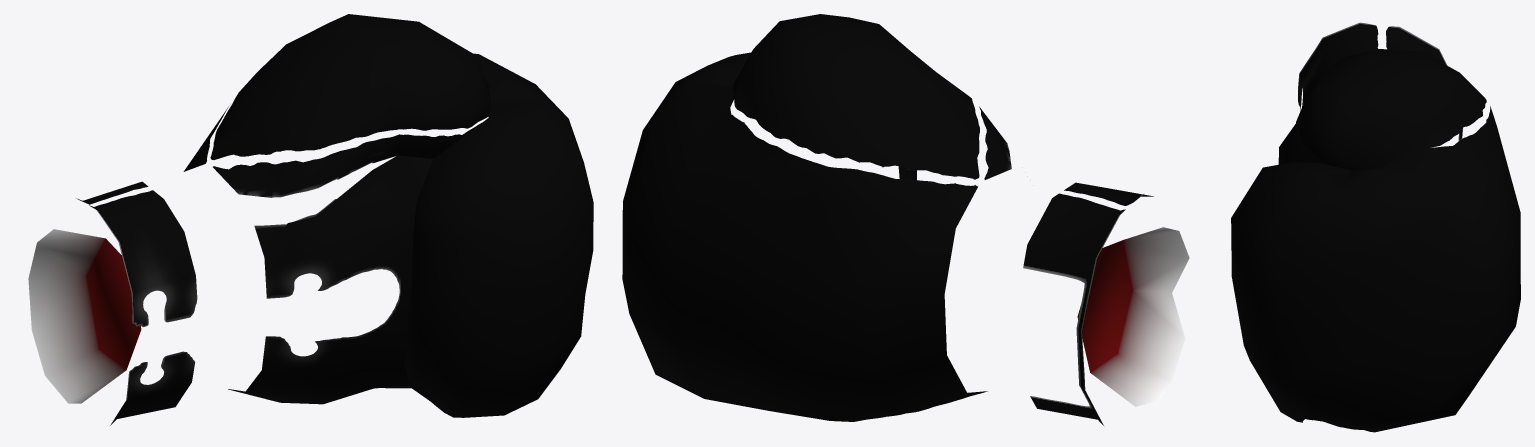
The model's file is box_glove__box_glove_L.glb.
The picture shows the model from 3 angles, left to right: view 1: azimuth 30°, elevation 25°; view 2: azimuth 150°, elevation 25°; view 3: azimuth 270°, elevation 25°; orthographic projection. The views are drawn at different scales.
Visible parts, largest first — view 1: polygon0, polygon1; view 2: polygon0, polygon1; view 3: polygon0.
Boxes of the visible parts, left/top/right/bottom form: polygon0: left=76, top=14, right=593, bottom=425; polygon1: left=28, top=229, right=141, bottom=403; polygon0: left=622, top=14, right=1153, bottom=426; polygon1: left=1077, top=227, right=1189, bottom=406; polygon0: left=1231, top=22, right=1520, bottom=432.
Size of the model in its own units: 4.22 by 3.07 by 2.46.
2 materials, 1 textured.
